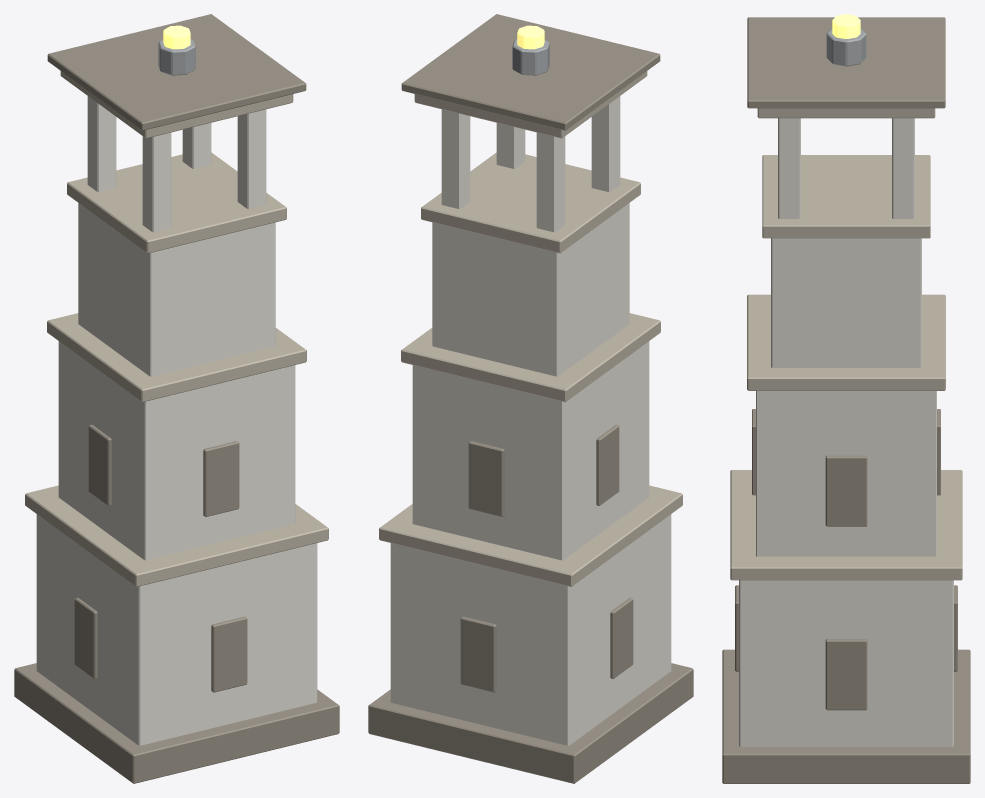
Rendered from TC_ENV_QuarterTower_V1.gltf.
3 views of the same model, side by side, from view 1: azimuth 30°, elevation 25°; view 2: azimuth 150°, elevation 25°; view 3: azimuth 270°, elevation 25° (orthographic). The views are drawn at different scales.
Visible parts, largest first — view 1: TC_ENV_QuarterTower_V1; view 2: TC_ENV_QuarterTower_V1; view 3: TC_ENV_QuarterTower_V1.
Boxes of the visible parts, left/top/right/bottom form: TC_ENV_QuarterTower_V1: left=14, top=14, right=339, bottom=783; TC_ENV_QuarterTower_V1: left=368, top=14, right=693, bottom=783; TC_ENV_QuarterTower_V1: left=722, top=14, right=970, bottom=783.
Size of the model in its own units: 3.7 by 11.71 by 3.7.
